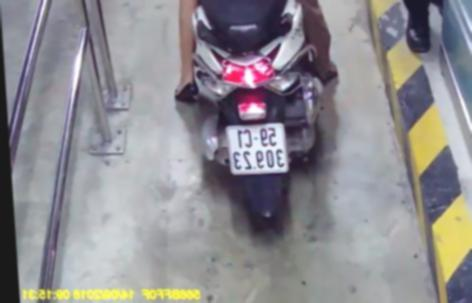License_Plate: (218, 118, 296, 180)
